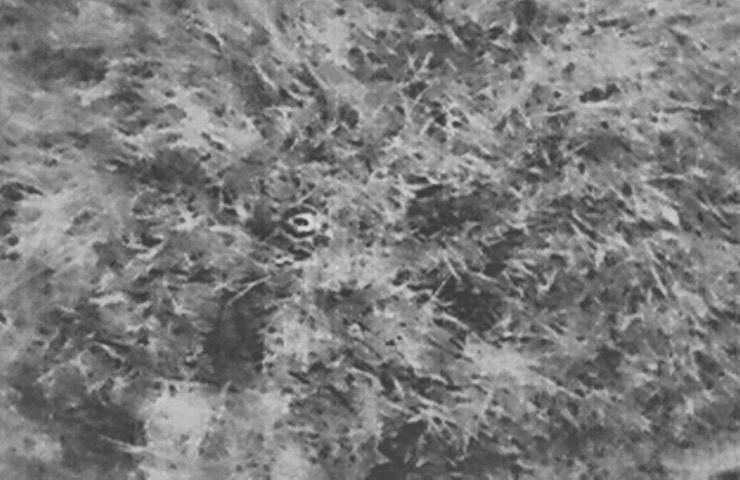landmines: (275, 199, 329, 249)
